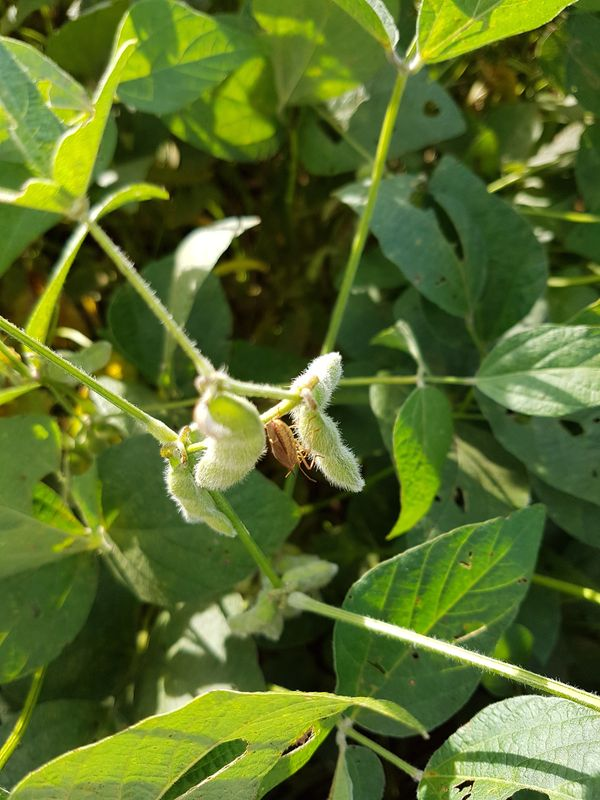Euschistus_heros_adulto: (257, 405, 332, 487)
